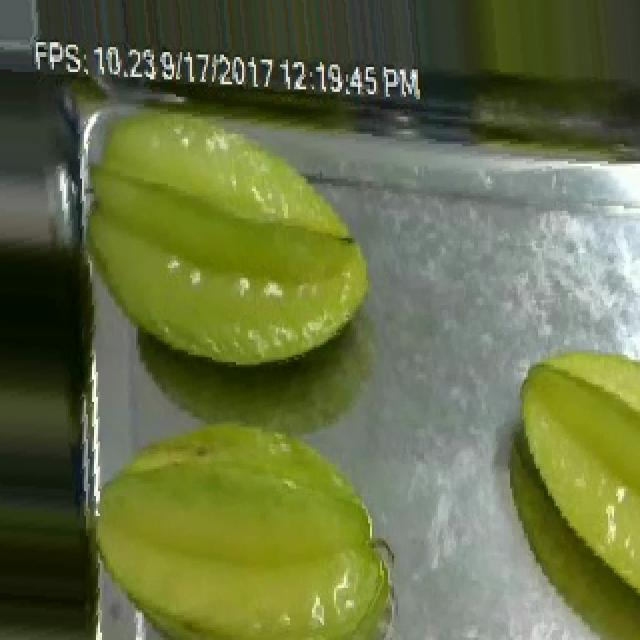fruit: (62, 84, 382, 387), (66, 397, 416, 640), (494, 335, 640, 627), (448, 0, 640, 97)
